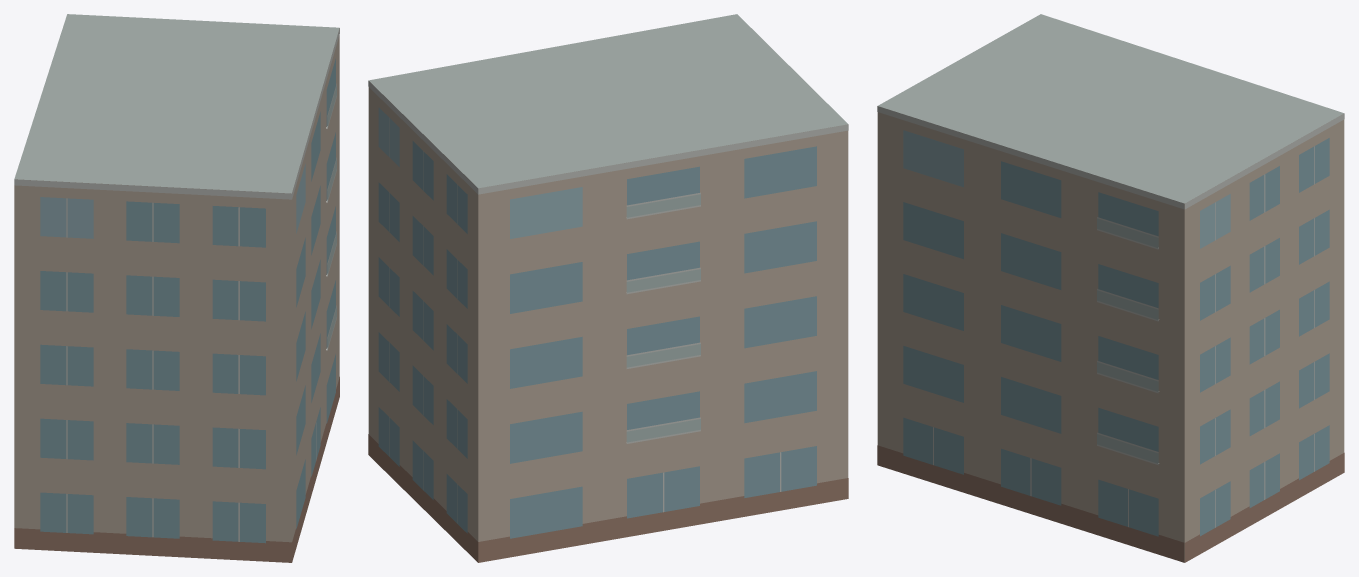
File: survey-upis-32892472.glb
3 views of the same model, side by side, from view 1: azimuth 30°, elevation 25°; view 2: azimuth 150°, elevation 25°; view 3: azimuth 270°, elevation 25° (orthographic). The views are drawn at different scales.
Parts seen in each view (by area): view 1: survey-upis-32892472.tmp; view 2: survey-upis-32892472.tmp; view 3: survey-upis-32892472.tmp.
Boxes of the visible parts, <box> form: survey-upis-32892472.tmp: <box>14,14,339,562</box>; survey-upis-32892472.tmp: <box>368,14,848,562</box>; survey-upis-32892472.tmp: <box>877,14,1344,562</box>.
Bounding box in the file's own units: 16.59 × 14.65 × 17.27.
